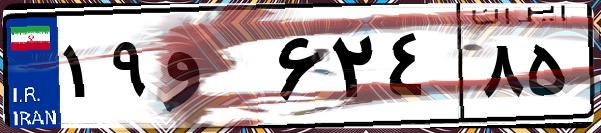1: (57, 26, 110, 100)
2: (330, 28, 385, 110)
4: (385, 28, 445, 110)
5: (525, 38, 570, 115)
6: (270, 28, 330, 110)
8: (475, 38, 525, 113)
9: (110, 28, 158, 98)
و: (158, 20, 270, 120)
